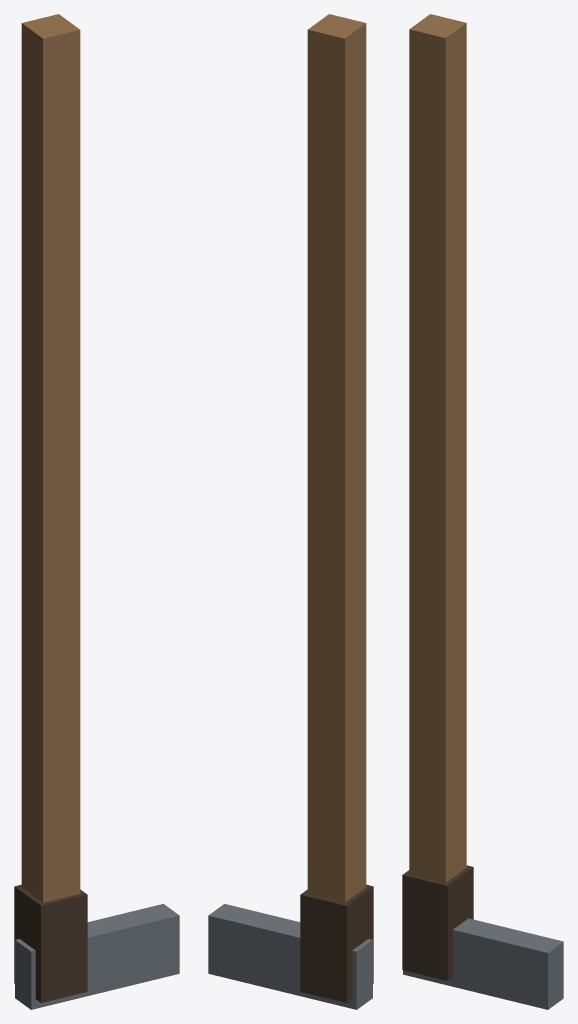
The model's file is hoe.glb.
3 views of the same model, side by side, from view 1: azimuth 30°, elevation 25°; view 2: azimuth 150°, elevation 25°; view 3: azimuth 330°, elevation 25° (orthographic). The views are drawn at different scales.
Visible parts, largest first — view 1: hoe; view 2: hoe; view 3: hoe.
Boxes of the visible parts, box(x1,y1,x2,y2) form: hoe: box(14, 14, 179, 1009); hoe: box(208, 14, 373, 1009); hoe: box(402, 14, 563, 1009).
Size of the model in its own units: 0.16 by 1 by 0.05.
1 material, 1 textured.
